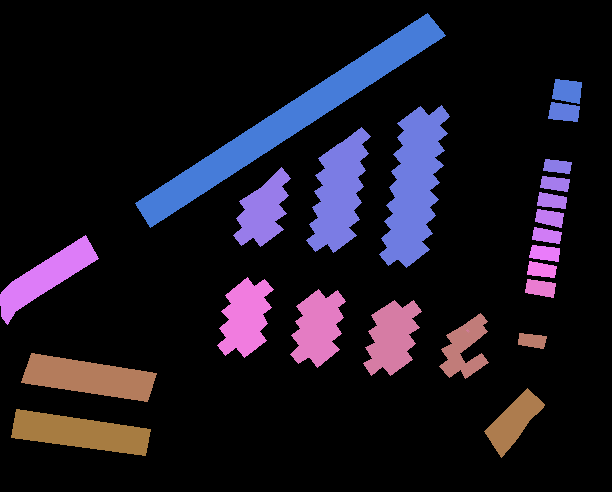parkingspot: (135, 13, 445, 227), (0, 235, 98, 324), (397, 105, 449, 267), (379, 106, 429, 265), (21, 353, 156, 401), (11, 409, 150, 455), (327, 127, 370, 252), (306, 143, 348, 251), (484, 388, 544, 457), (381, 300, 421, 375), (217, 277, 255, 355), (235, 279, 273, 357), (253, 167, 290, 246), (363, 300, 401, 375), (308, 290, 345, 367), (290, 289, 326, 363), (233, 187, 268, 245), (439, 325, 471, 377), (463, 313, 487, 344), (459, 353, 488, 378), (552, 79, 581, 103), (548, 102, 579, 121), (525, 279, 555, 297), (535, 209, 563, 227), (529, 245, 559, 261), (532, 227, 561, 243), (537, 192, 566, 208), (527, 261, 556, 277), (540, 176, 569, 191), (518, 333, 546, 348), (543, 159, 571, 173)
